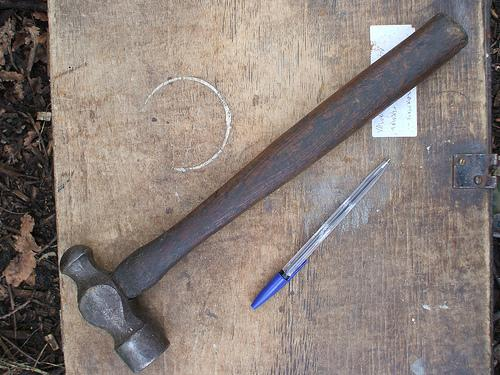hammer: (58, 10, 468, 374)
